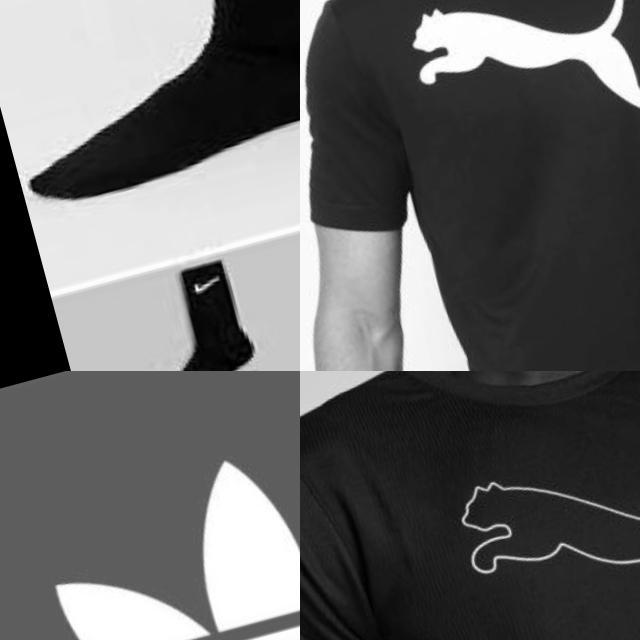ADIDAS_original: (3, 387, 300, 640), (17, 392, 300, 640)
NIKE_original: (156, 254, 240, 324)
PUMA_original: (416, 371, 640, 640), (386, 0, 640, 208)
